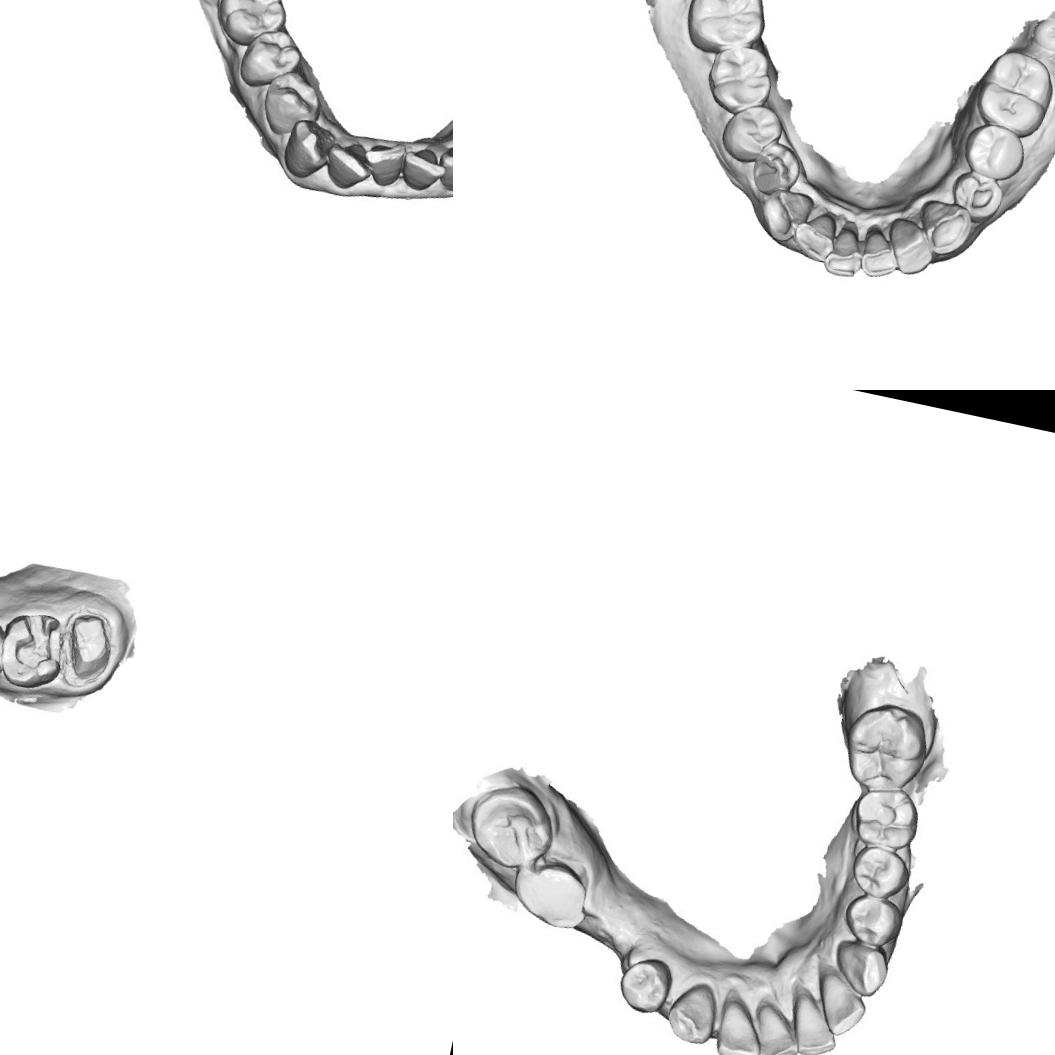canine: (911, 196, 976, 264), (751, 182, 816, 247), (278, 115, 338, 184), (666, 982, 720, 1046), (834, 940, 892, 997)
crown: (57, 607, 120, 686)
implant: (1027, 13, 1055, 56)
incisor: (810, 962, 871, 1036), (785, 986, 846, 1055), (711, 989, 767, 1055), (358, 134, 414, 196), (320, 135, 377, 195), (745, 1001, 806, 1055), (821, 216, 871, 281), (786, 204, 840, 264), (887, 220, 939, 280), (856, 224, 906, 282), (398, 143, 449, 195), (433, 143, 453, 197)
inlay: (9, 610, 68, 680)
molar: (842, 696, 937, 798), (460, 779, 560, 875), (970, 41, 1055, 141), (507, 854, 594, 936), (700, 39, 782, 122), (682, 0, 775, 62), (852, 781, 922, 854)
premolar: (256, 63, 327, 143), (209, 0, 296, 53), (235, 26, 302, 94), (720, 100, 787, 168), (960, 118, 1029, 184), (745, 136, 808, 201), (948, 166, 1007, 226), (853, 840, 912, 898), (614, 958, 673, 1016), (845, 892, 902, 948)
